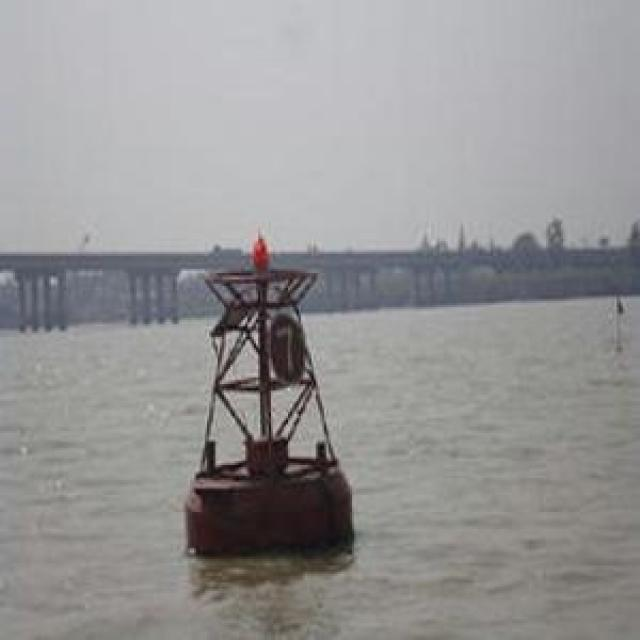buoy: (164, 234, 377, 558)
